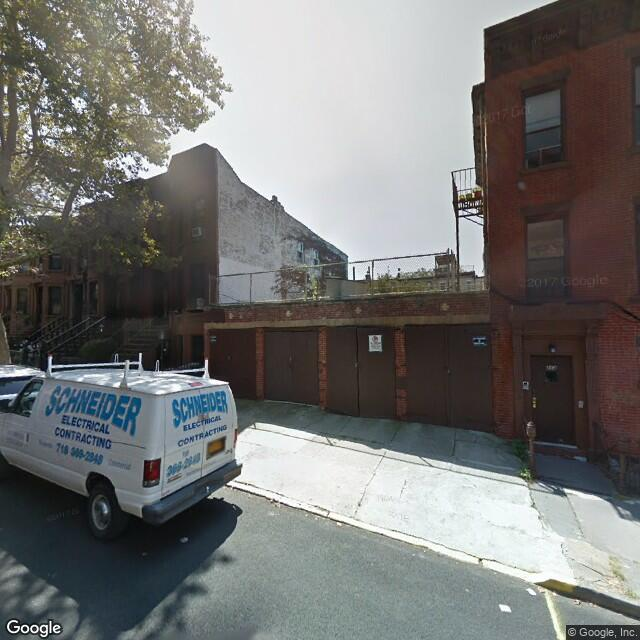litter: (571, 453, 591, 464), (498, 602, 513, 612), (523, 587, 535, 596), (269, 497, 281, 506), (178, 535, 189, 544), (335, 517, 340, 529), (137, 549, 146, 554), (549, 590, 557, 594)
